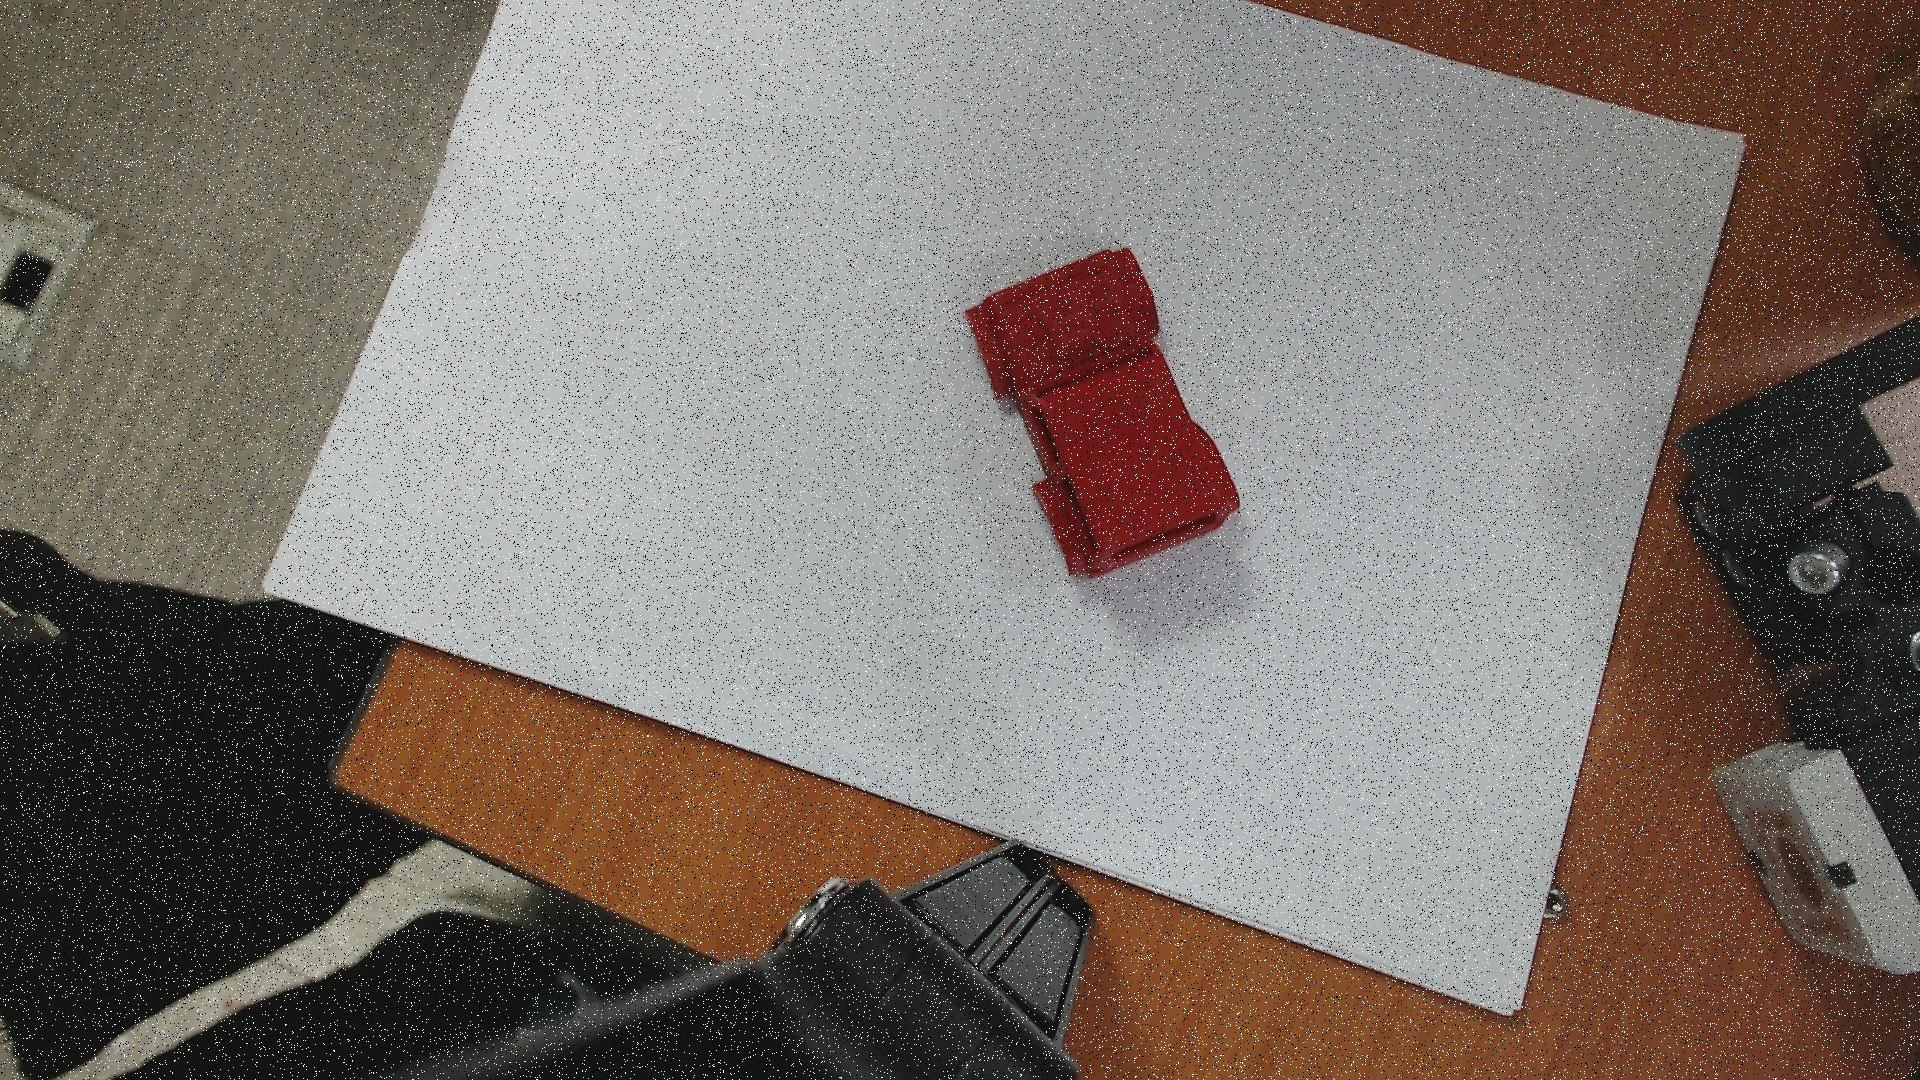Upper_ok: (965, 249, 1237, 576)
